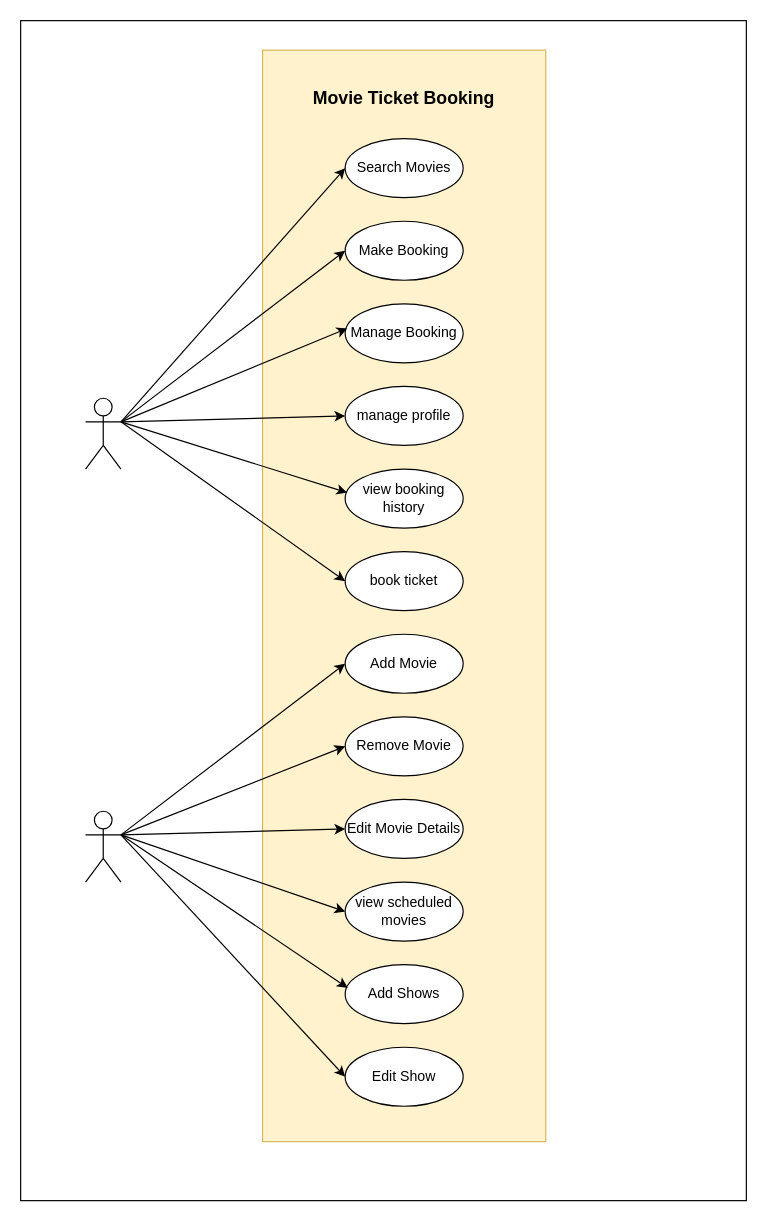
This 767x1221 diagram has some shape labels left out. The box of each missing label's shape, as (x1, y1, x2, y2) in pixels:
Customer: (84, 397, 121, 469)
Theatre Employee: (84, 810, 121, 882)
